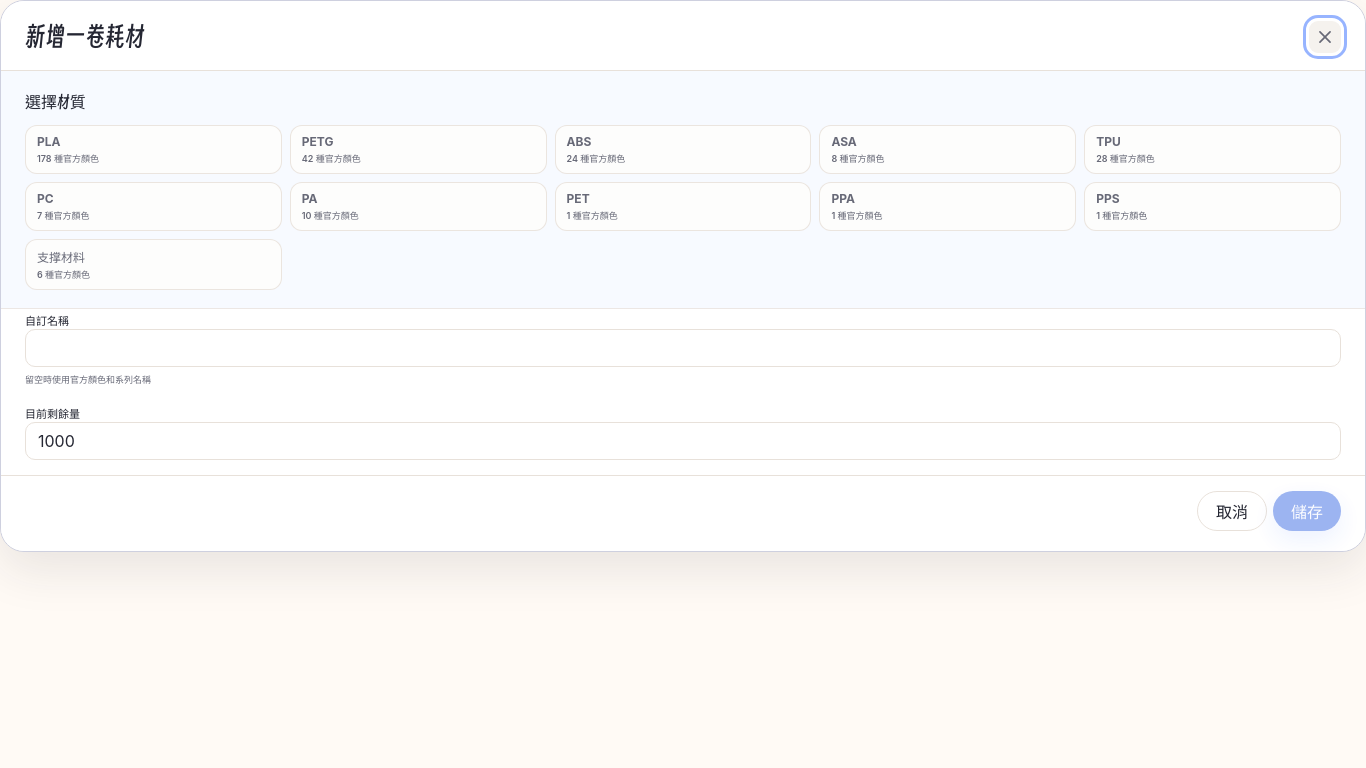
describes classic series without marking current series in zh-TW
Click the button "PLA 178 種官方顏色" at (153, 150), box [25,125,282,174]
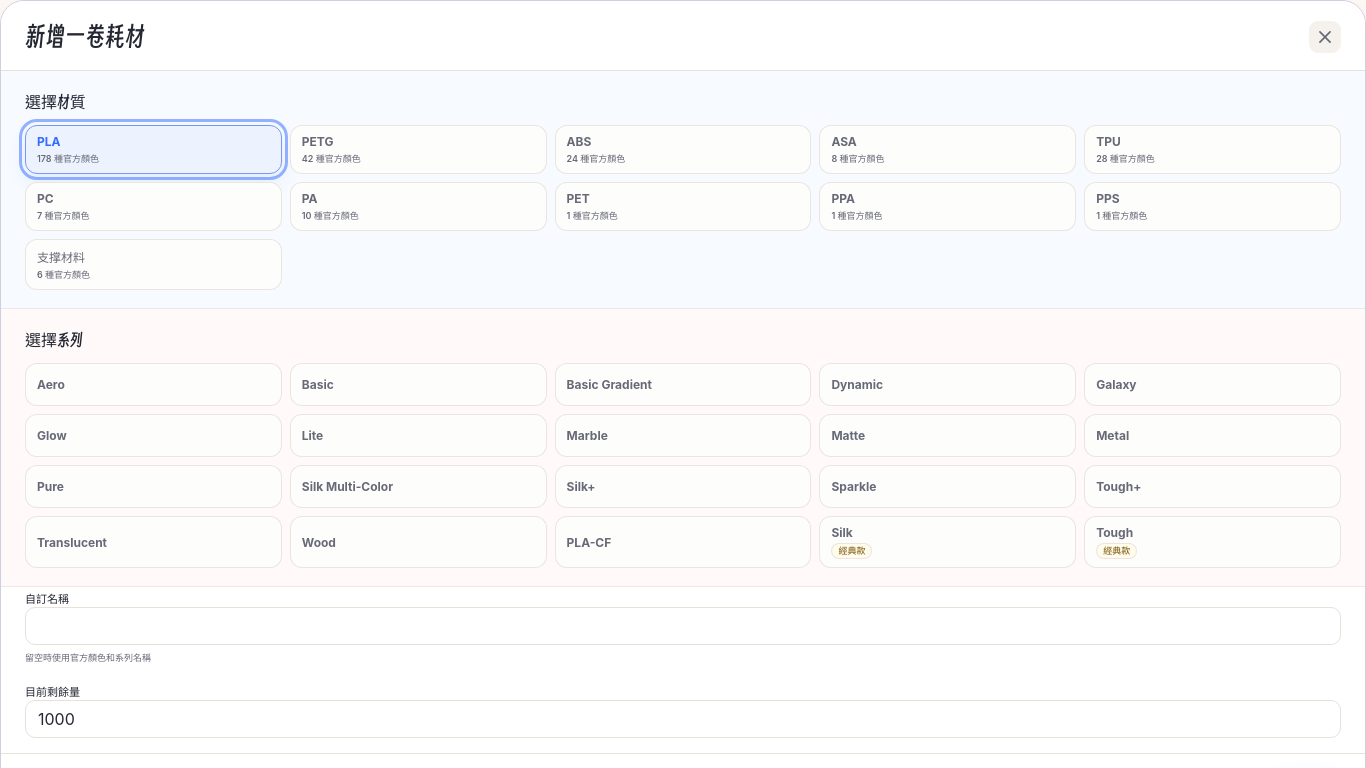
Check: the button "Silk+" does not show "經典款", box [555,465,811,508]
Check: the button "Silk 經典款" is shown, box [819,516,1076,568]
Check: the button "Tough 經典款" is shown, box [1084,516,1341,568]
